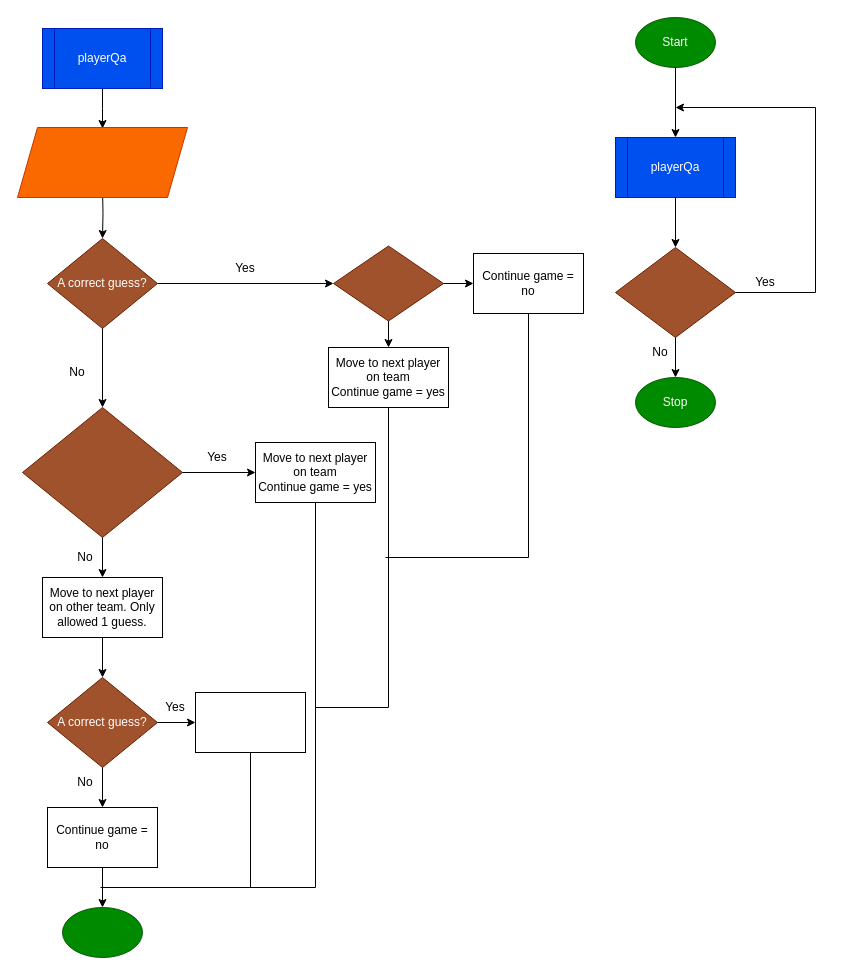
This 841x975 diagram has some shape labels left out. Each missing label, with the centre of its shape:
All answers guessed?: pixel 388 283
Collect all points Continue game = no: pixel 250 722
Continue Game?: pixel 675 292
Output game question Input players guess: pixel 102 162
Return: pixel 102 932
Still have chances left to guess?: pixel 102 472
